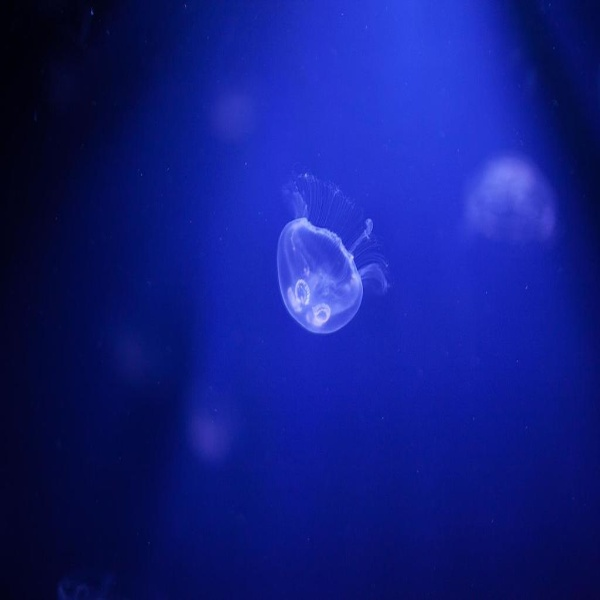Jellyfish: (277, 161, 392, 333)
